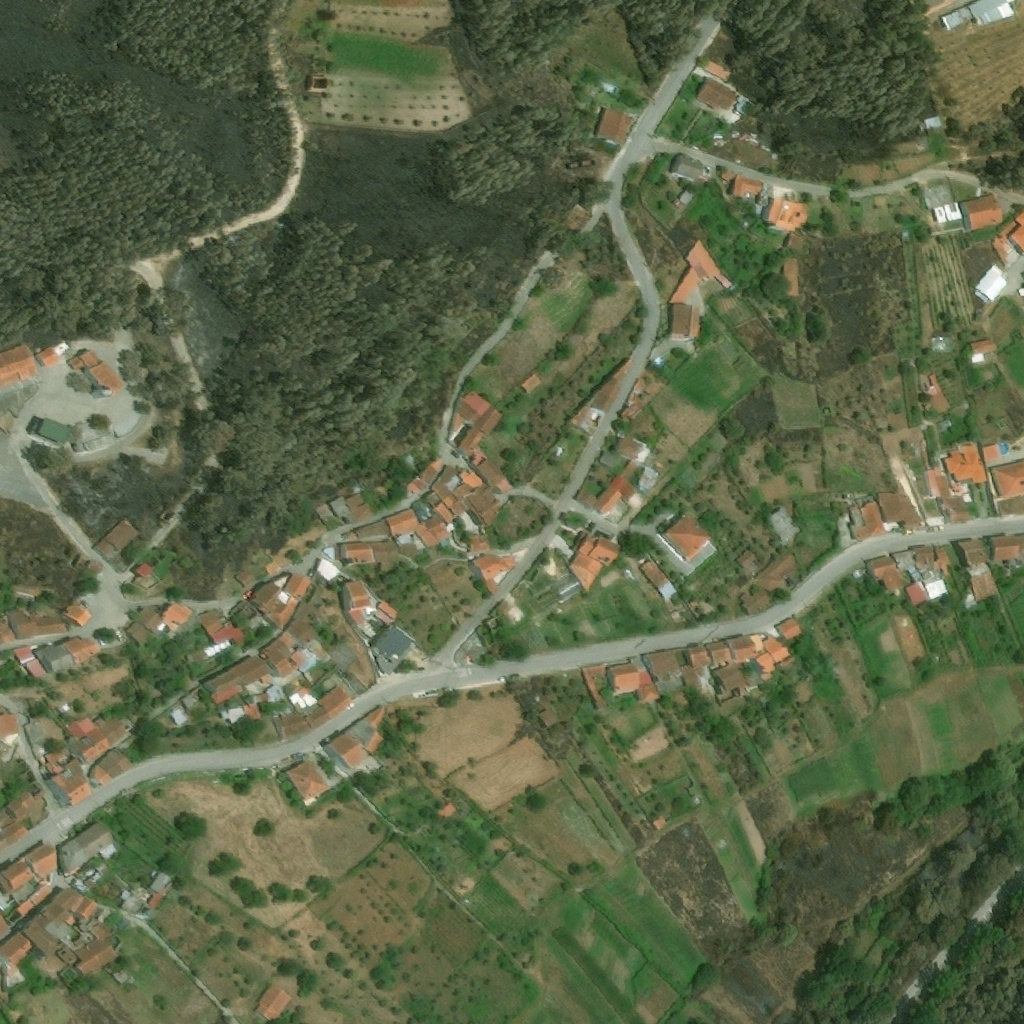0 no-damage: (568, 357, 633, 435), (322, 703, 392, 771), (261, 615, 325, 675), (430, 464, 488, 530), (201, 653, 273, 706), (668, 239, 721, 302), (22, 901, 79, 958), (57, 820, 118, 872), (569, 532, 621, 591), (67, 713, 127, 764), (448, 387, 503, 442), (67, 348, 125, 400), (573, 473, 644, 515), (659, 509, 714, 563), (451, 472, 504, 524), (921, 469, 971, 523), (249, 578, 301, 629), (753, 547, 803, 596), (0, 857, 48, 904), (94, 516, 141, 563), (47, 763, 93, 810), (942, 0, 1016, 29), (287, 757, 332, 804), (7, 604, 68, 638), (942, 440, 988, 484), (636, 553, 678, 599), (470, 553, 514, 596), (750, 635, 792, 680), (0, 787, 46, 827), (75, 937, 119, 978), (198, 608, 248, 644), (404, 455, 446, 497), (0, 343, 40, 387), (90, 746, 134, 786), (593, 106, 634, 148), (36, 741, 78, 781), (960, 193, 1003, 231), (876, 491, 920, 528), (761, 197, 810, 230), (339, 579, 373, 626), (328, 491, 375, 525), (714, 661, 752, 703), (253, 981, 292, 1021), (374, 625, 414, 663), (696, 76, 738, 112), (620, 376, 656, 418), (33, 641, 76, 676), (918, 373, 951, 418), (764, 505, 801, 545), (185, 637, 236, 666), (849, 500, 884, 542), (455, 425, 488, 469), (415, 512, 453, 549), (0, 929, 36, 967), (422, 486, 457, 525), (630, 656, 659, 703), (681, 644, 712, 687), (478, 457, 514, 493), (975, 262, 1008, 301), (318, 683, 354, 718), (60, 634, 102, 664), (78, 417, 115, 451), (669, 303, 701, 342), (580, 664, 607, 710), (23, 843, 57, 879), (867, 556, 903, 590), (642, 649, 683, 678), (382, 506, 420, 537), (274, 708, 312, 739), (967, 564, 997, 603), (35, 416, 74, 446), (723, 633, 766, 660), (992, 460, 1023, 497), (605, 662, 639, 695), (614, 434, 650, 465), (119, 889, 160, 916), (161, 599, 194, 632), (989, 534, 1023, 566), (990, 219, 1019, 255), (0, 818, 30, 852), (454, 630, 483, 665), (289, 642, 320, 674), (739, 586, 772, 616), (334, 542, 376, 565), (133, 601, 165, 631), (671, 154, 705, 182), (956, 538, 991, 565), (62, 598, 95, 626), (52, 886, 86, 913), (351, 518, 392, 540), (373, 540, 402, 571), (286, 682, 318, 709), (284, 571, 312, 598), (370, 599, 397, 627), (931, 201, 965, 223), (127, 618, 154, 645), (915, 115, 940, 144), (732, 174, 763, 197), (970, 337, 997, 363), (774, 615, 802, 640), (704, 640, 733, 664), (313, 556, 339, 582), (29, 881, 55, 906), (72, 895, 99, 919), (635, 467, 659, 494), (248, 683, 282, 702), (396, 529, 419, 557), (303, 658, 328, 683), (412, 496, 434, 524), (76, 554, 105, 575), (705, 60, 732, 82), (890, 550, 918, 571), (905, 581, 928, 606), (304, 707, 330, 729), (783, 256, 798, 293), (520, 371, 543, 394), (56, 943, 79, 966), (150, 870, 172, 894), (25, 657, 47, 680), (913, 546, 935, 568), (167, 704, 189, 726), (538, 706, 561, 727), (0, 615, 17, 643), (89, 920, 114, 939), (736, 548, 758, 569), (312, 641, 333, 663), (494, 599, 516, 620), (37, 347, 60, 367), (932, 545, 951, 569), (925, 579, 947, 599), (620, 459, 640, 481), (25, 721, 44, 744), (581, 114, 600, 137), (931, 335, 955, 353), (468, 532, 489, 552), (90, 860, 109, 882), (179, 691, 200, 710), (734, 94, 753, 115), (51, 338, 72, 357), (131, 559, 151, 578), (597, 449, 617, 468), (436, 800, 456, 819), (786, 230, 804, 251), (70, 875, 91, 893), (17, 897, 36, 916), (228, 706, 247, 725), (235, 567, 254, 586), (242, 702, 262, 720), (32, 739, 49, 759), (0, 712, 15, 734), (716, 274, 735, 291), (678, 188, 695, 205), (264, 559, 281, 576), (936, 417, 953, 433), (973, 287, 989, 303), (850, 565, 866, 581), (2, 961, 20, 975), (719, 167, 735, 182), (725, 582, 740, 598), (652, 816, 667, 830), (483, 615, 497, 629), (688, 794, 702, 808), (984, 445, 998, 458), (757, 692, 770, 704), (898, 227, 910, 238), (688, 598, 699, 608), (672, 198, 681, 206)
4 un-classified: (546, 436, 575, 468), (1007, 212, 1023, 247), (398, 451, 417, 470), (0, 913, 13, 939), (0, 894, 9, 912)
